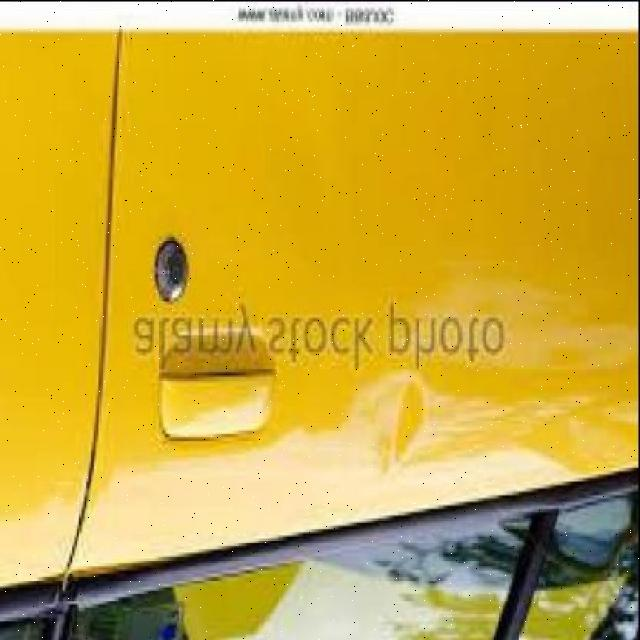damage: (358, 366, 440, 476)
